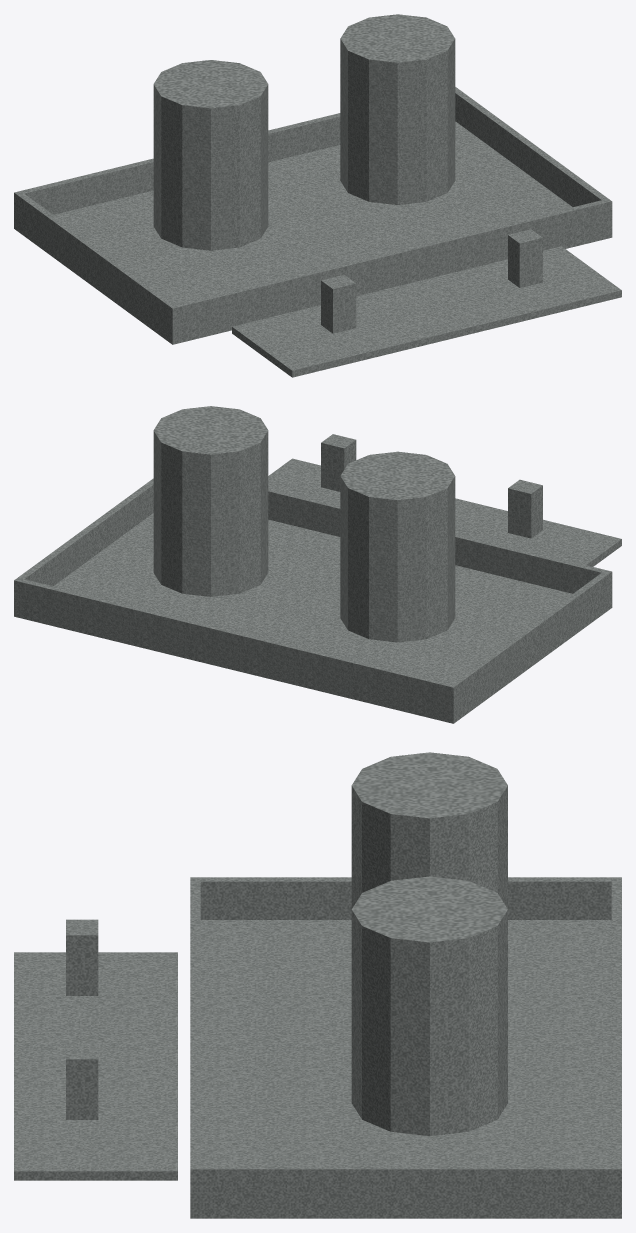
File: PZ_Optional_UCX_Collision_Helpers.glb
3 renders of one model, top to bottom at view 1: azimuth 30°, elevation 25°; view 2: azimuth 150°, elevation 25°; view 3: azimuth 270°, elevation 25°, orthographic. The views are drawn at different scales.
Parts seen in each view (by area): view 1: UCX_Bund_Floor_Box_01, UCX_Tank_2_SimpleCylinder, UCX_Tank_1_SimpleCylinder, UCX_Service_Apron, UCX_Bund_Wall_Y-4.88, UCX_Bund_Wall_Y4.88, UCX_Bund_Wall_X-7.88, UCX_Bund_Wall_X7.88, UCX_Pump_1_SimpleBox, UCX_Pump_2_SimpleBox; view 2: UCX_Bund_Floor_Box_01, UCX_Tank_1_SimpleCylinder, UCX_Tank_2_SimpleCylinder, UCX_Bund_Wall_Y4.88, UCX_Bund_Wall_Y-4.88, UCX_Service_Apron, UCX_Bund_Wall_X-7.88, UCX_Bund_Wall_X7.88, UCX_Pump_1_SimpleBox, UCX_Pump_2_SimpleBox; view 3: UCX_Bund_Floor_Box_01, UCX_Tank_2_SimpleCylinder, UCX_Service_Apron, UCX_Tank_1_SimpleCylinder, UCX_Bund_Wall_X7.88, UCX_Bund_Wall_X-7.88, UCX_Bund_Wall_Y4.88, UCX_Bund_Wall_Y-4.88, UCX_Pump_1_SimpleBox, UCX_Pump_2_SimpleBox.
Part boxes in pixels (x1,y1,x2,y2): UCX_Bund_Floor_Box_01: [14, 121, 612, 344]; UCX_Tank_2_SimpleCylinder: [340, 14, 455, 204]; UCX_Tank_1_SimpleCylinder: [153, 60, 268, 250]; UCX_Service_Apron: [232, 246, 621, 377]; UCX_Bund_Wall_Y-4.88: [168, 198, 612, 336]; UCX_Bund_Wall_Y4.88: [14, 87, 456, 222]; UCX_Bund_Wall_X-7.88: [17, 193, 174, 333]; UCX_Bund_Wall_X7.88: [455, 88, 607, 206]; UCX_Pump_1_SimpleBox: [321, 275, 356, 333]; UCX_Pump_2_SimpleBox: [508, 229, 542, 287]; UCX_Bund_Floor_Box_01: [14, 513, 612, 723]; UCX_Tank_1_SimpleCylinder: [340, 451, 455, 642]; UCX_Tank_2_SimpleCylinder: [153, 406, 268, 596]; UCX_Bund_Wall_Y4.88: [14, 577, 457, 715]; UCX_Bund_Wall_Y-4.88: [268, 487, 612, 602]; UCX_Service_Apron: [268, 458, 621, 566]; UCX_Bund_Wall_X-7.88: [451, 573, 608, 712]; UCX_Bund_Wall_X7.88: [18, 478, 153, 585]; UCX_Pump_1_SimpleBox: [508, 479, 542, 538]; UCX_Pump_2_SimpleBox: [321, 434, 356, 491]; UCX_Bund_Floor_Box_01: [190, 920, 621, 1218]; UCX_Tank_2_SimpleCylinder: [351, 876, 507, 1136]; UCX_Service_Apron: [14, 952, 177, 1180]; UCX_Tank_1_SimpleCylinder: [351, 752, 507, 908]; UCX_Bund_Wall_X7.88: [200, 1165, 611, 1207]; UCX_Bund_Wall_X-7.88: [200, 877, 611, 919]; UCX_Bund_Wall_Y4.88: [611, 877, 621, 1207]; UCX_Bund_Wall_Y-4.88: [190, 877, 200, 1207]; UCX_Pump_1_SimpleBox: [66, 919, 98, 995]; UCX_Pump_2_SimpleBox: [66, 1043, 98, 1119].
Size of the model in its own units: 16 by 5.75 by 14.08.
1 material, 1 textured.
